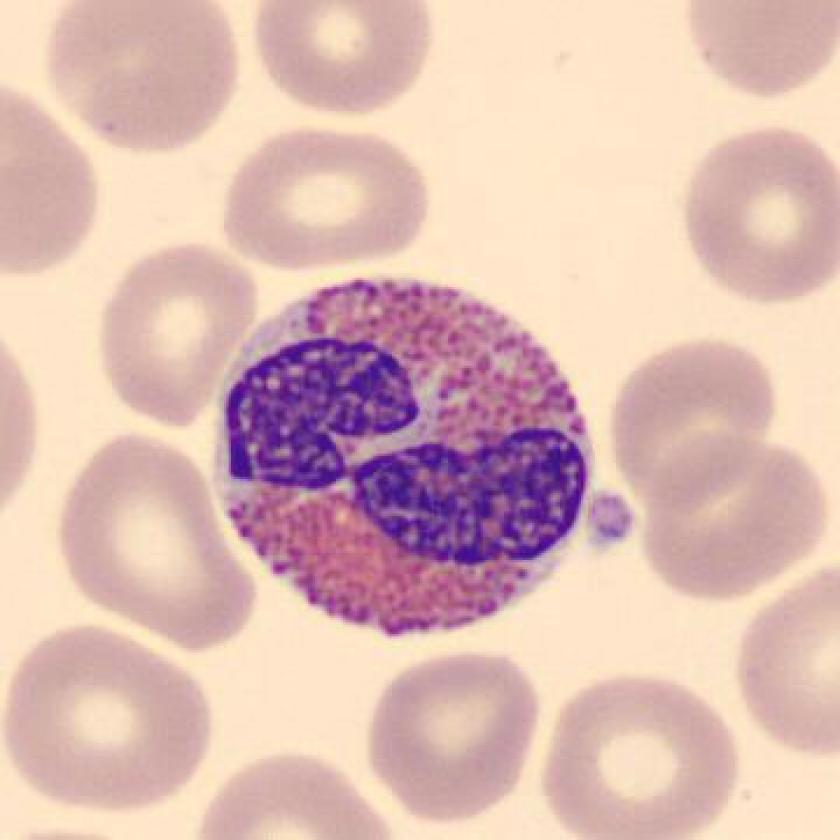eosinophil: (206, 270, 608, 652)
